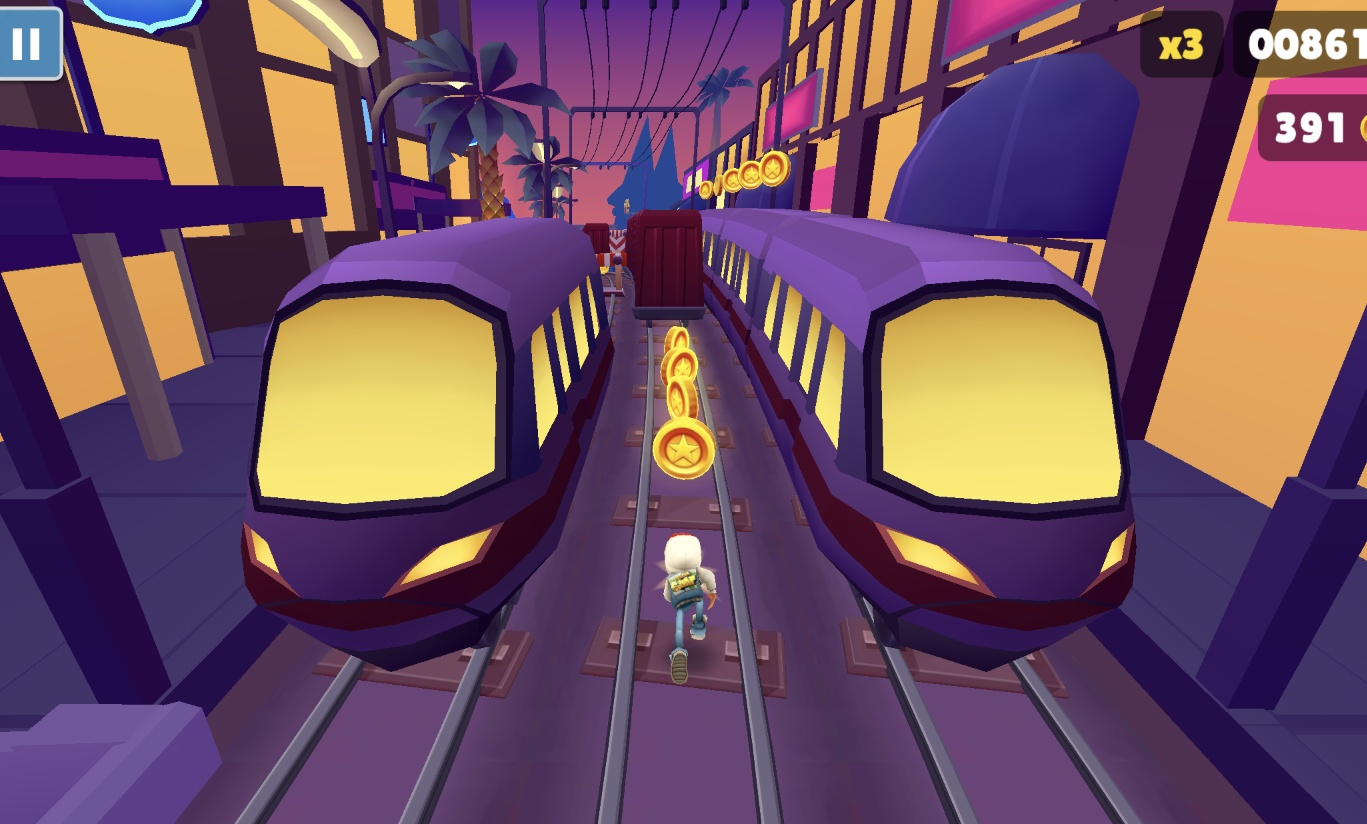ground_barrier: (597, 252, 625, 295)
overhead_barrier: (608, 229, 628, 256)
train: (697, 208, 1139, 675), (242, 218, 610, 676), (625, 210, 708, 323), (583, 222, 609, 254)
